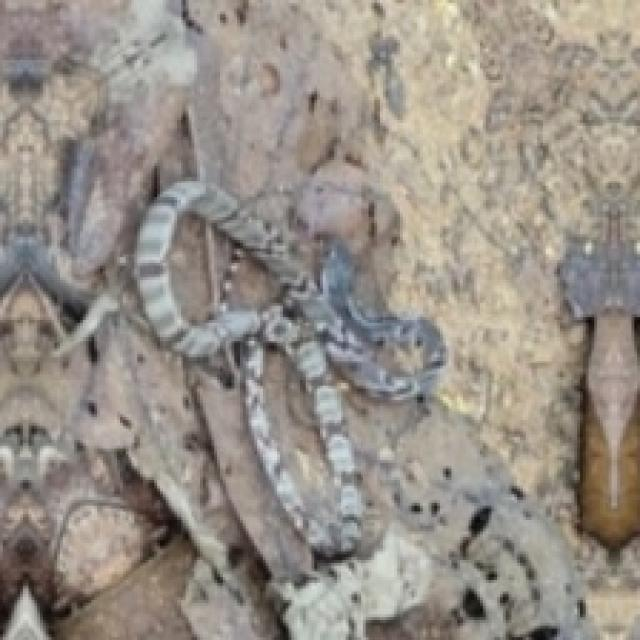dog-toothed cat snake: (134, 180, 443, 557)
